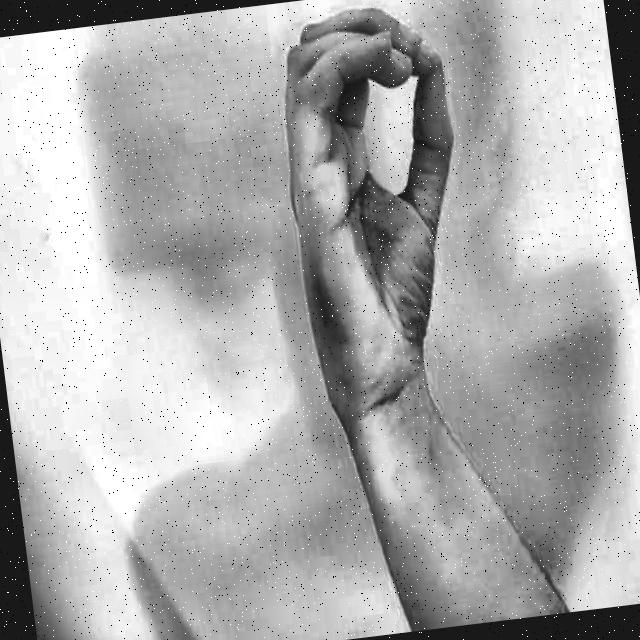O: (259, 0, 502, 460)
